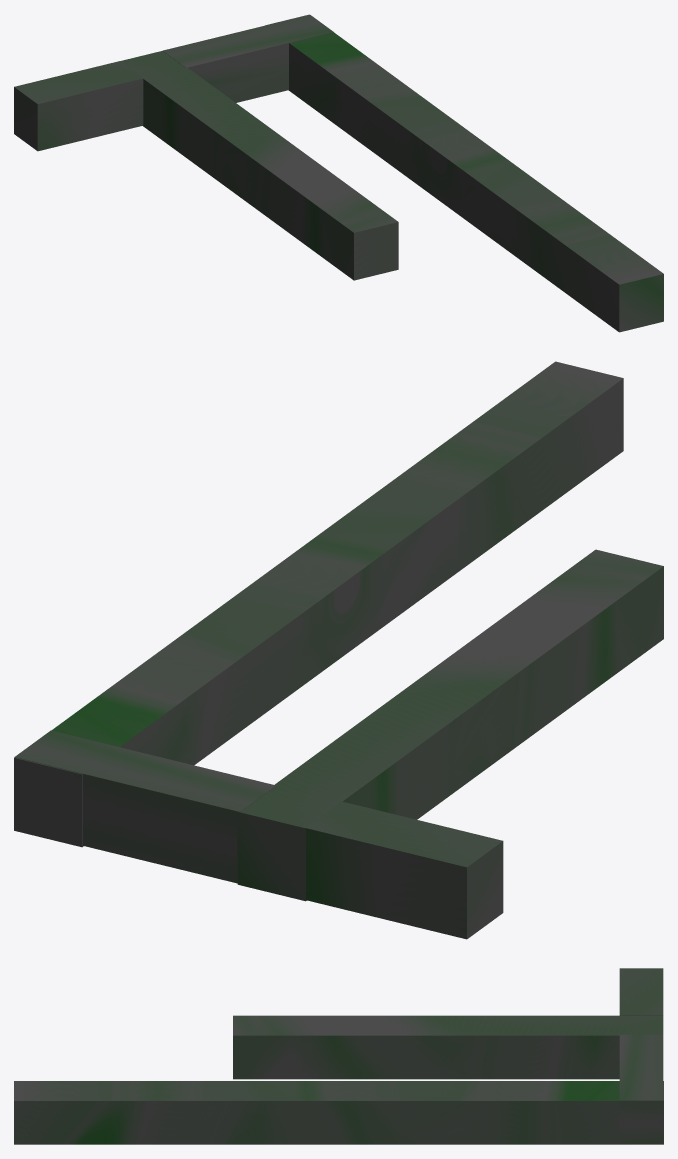
The model's file is VentShaft.fbx.
The picture shows the model from 3 angles, top to bottom: view 1: azimuth 30°, elevation 25°; view 2: azimuth 150°, elevation 25°; view 3: azimuth 270°, elevation 25°; orthographic projection. The views are drawn at different scales.
Parts seen in each view (by area): view 1: Cube.036; view 2: Cube.036; view 3: Cube.036.
Part boxes in pixels (x1,y1,x2,y2): Cube.036: (14,14,663,332); Cube.036: (14,361,663,939); Cube.036: (14,968,663,1144).
Bounding box in the file's own units: 881 × 136 × 1826.
